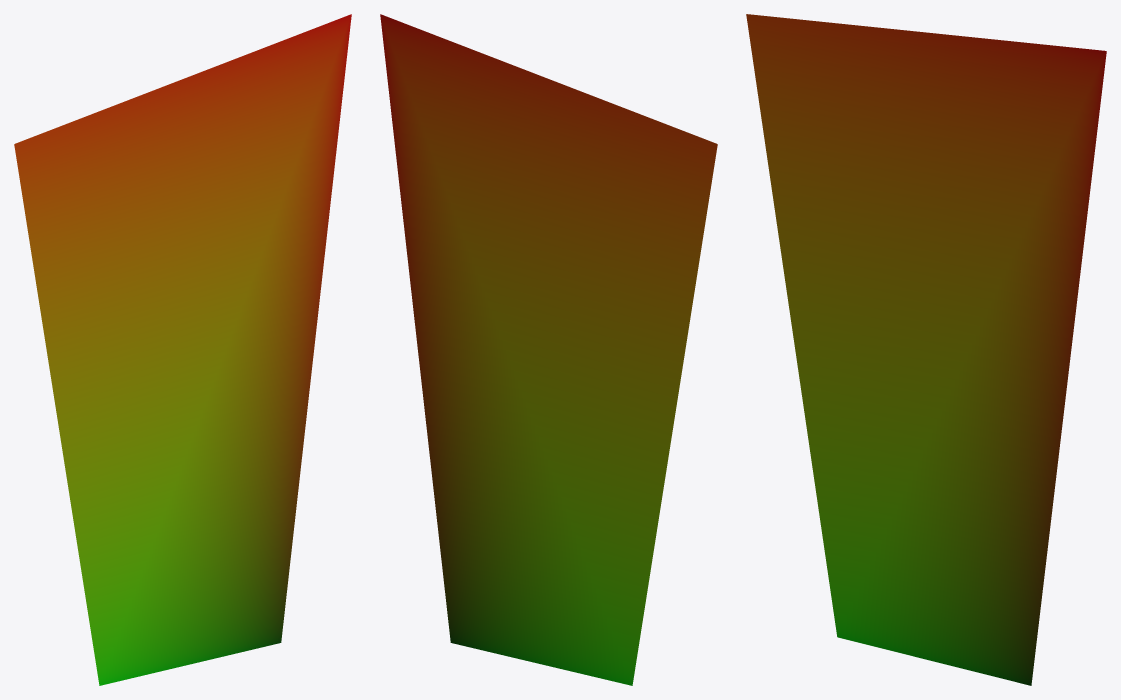
The model's file is Seaweed_LOD4_Var1_sdpiF.fbx.
3 renders of one model, left to right at view 1: azimuth 30°, elevation 25°; view 2: azimuth 150°, elevation 25°; view 3: azimuth 330°, elevation 25°, orthographic. The views are drawn at different scales.
Visible parts, largest first — view 1: _8bdd_Var1_LOD4; view 2: _8bdd_Var1_LOD4; view 3: _8bdd_Var1_LOD4.
Boxes of the visible parts, box(x1,y1,x2,y2) form: _8bdd_Var1_LOD4: box(14, 14, 351, 685); _8bdd_Var1_LOD4: box(380, 14, 717, 685); _8bdd_Var1_LOD4: box(746, 14, 1106, 685).
Size of the model in its own units: 28.26 by 48.93 by 1.2e-05.
